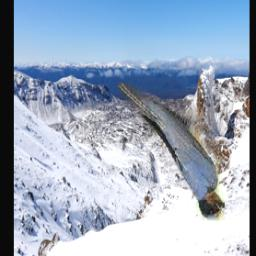Swallow: (118, 82, 225, 221)
